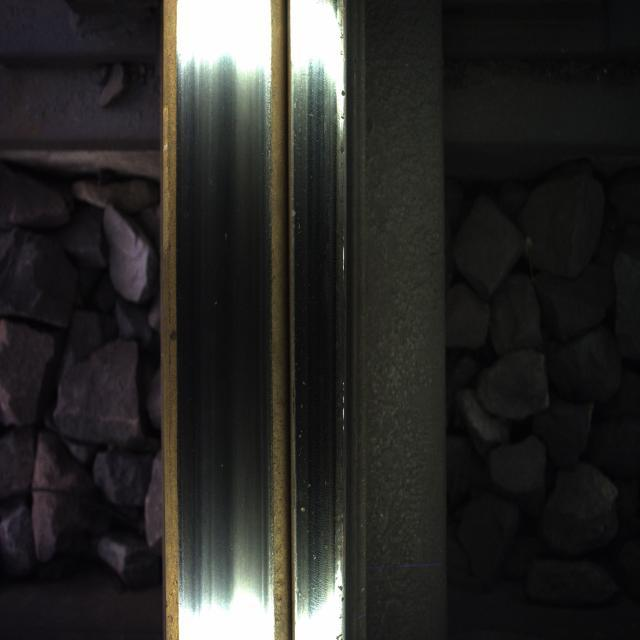break: (178, 48, 272, 562)
